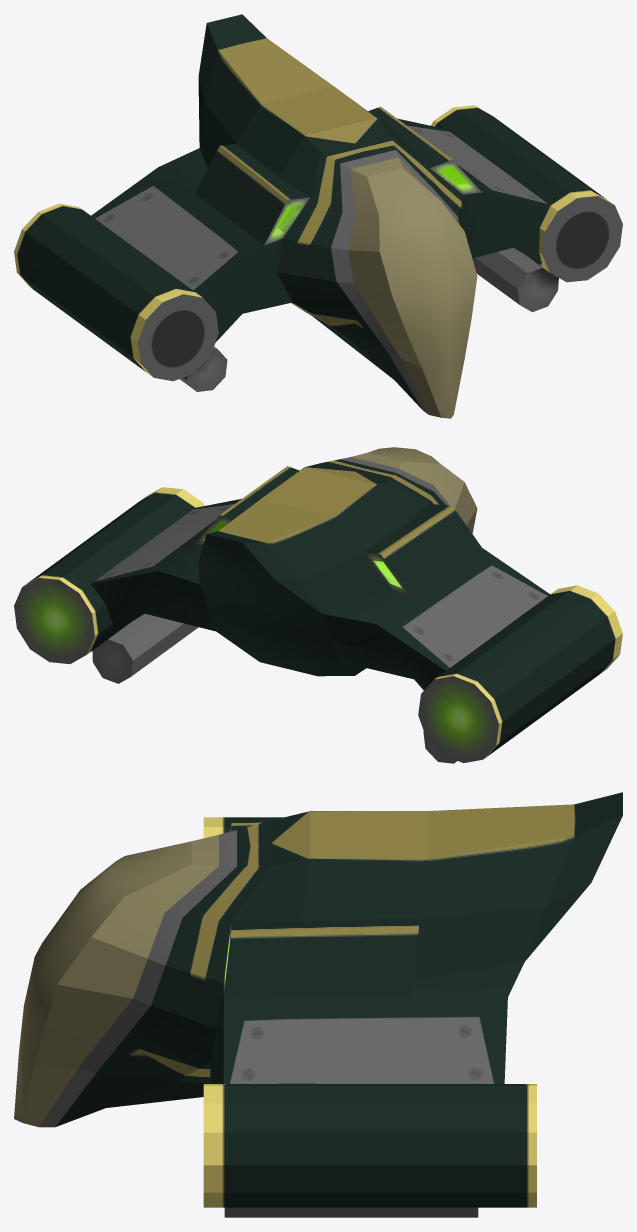
File: Boss_Minigun_Strong.fbx
The picture shows the model from 3 angles, top to bottom: view 1: azimuth 30°, elevation 25°; view 2: azimuth 150°, elevation 25°; view 3: azimuth 270°, elevation 25°; orthographic projection. The views are drawn at different scales.
Parts seen in each view (by area): view 1: Boss_Minigun:Boss_Minigun1; view 2: Boss_Minigun:Boss_Minigun1; view 3: Boss_Minigun:Boss_Minigun1.
Boxes of the visible parts, <box> form: Boss_Minigun:Boss_Minigun1: <box>14,14,622,418</box>; Boss_Minigun:Boss_Minigun1: <box>14,447,622,763</box>; Boss_Minigun:Boss_Minigun1: <box>14,792,622,1217</box>.
Bounding box in the file's own units: 589 × 272 × 476.
